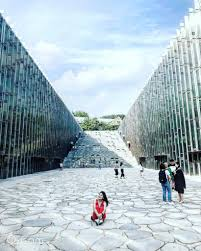people: (173, 161, 186, 203), (91, 192, 107, 224), (159, 161, 171, 203), (119, 160, 124, 177), (113, 160, 118, 175)
